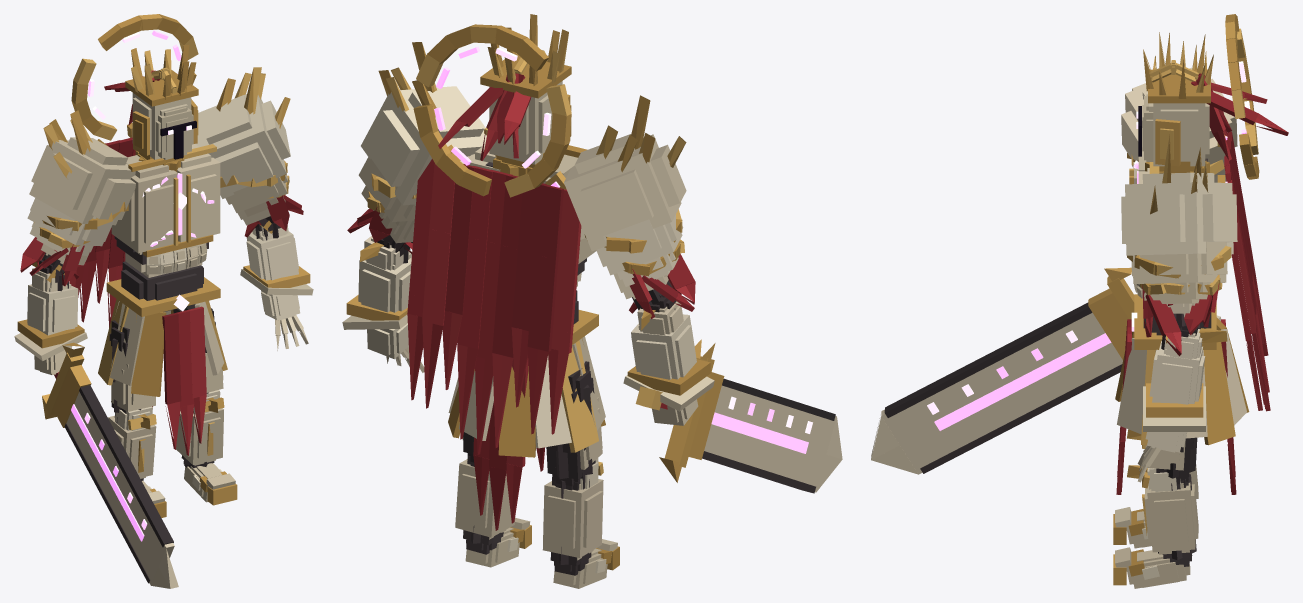
The picture shows the model from 3 angles, left to right: view 1: azimuth 30°, elevation 25°; view 2: azimuth 150°, elevation 25°; view 3: azimuth 270°, elevation 25°; orthographic projection. The views are drawn at different scales.
Visible parts, largest first — view 1: HollowSovereign; view 2: HollowSovereign; view 3: HollowSovereign.
Part boxes in pixels (left/top/right/bottom): HollowSovereign: left=14, top=14, right=313, bottom=588; HollowSovereign: left=342, top=14, right=842, bottom=588; HollowSovereign: left=871, top=14, right=1288, bottom=588.
Bounding box in the file's own units: 1.12 × 1.75 × 1.22.
